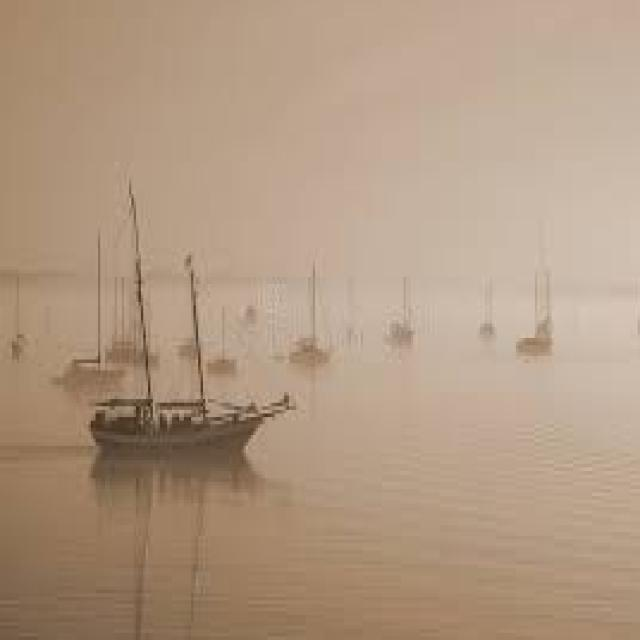fishing boat: (97, 256, 292, 470), (291, 271, 342, 367), (515, 261, 565, 351), (385, 273, 426, 350)
